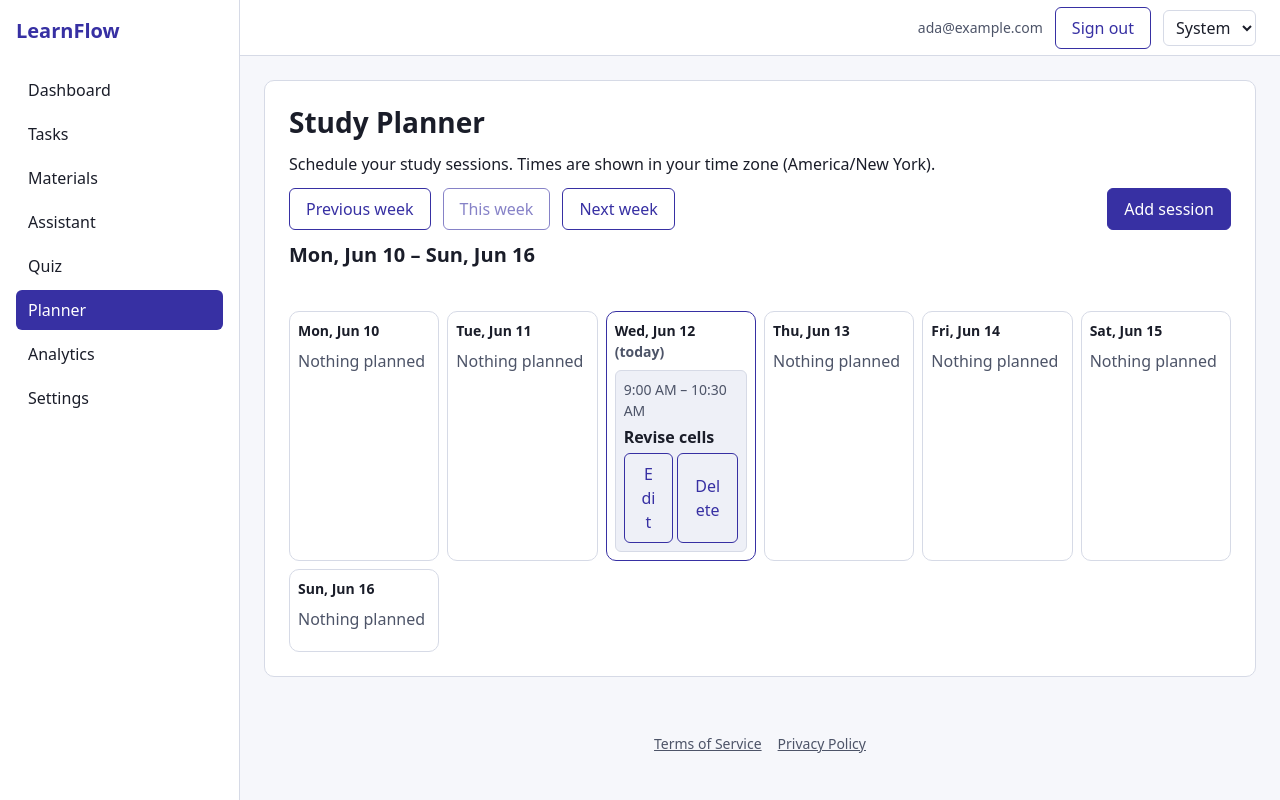
Test: planner: editing and deleting › opens a session in the user's zone and saves the new times
Expected: the heading "Study Planner" is shown, [289,103,485,141]
Click the button with aria-label "Edit: Revise cells" at coordinates (649, 498), box [624,453,673,543]
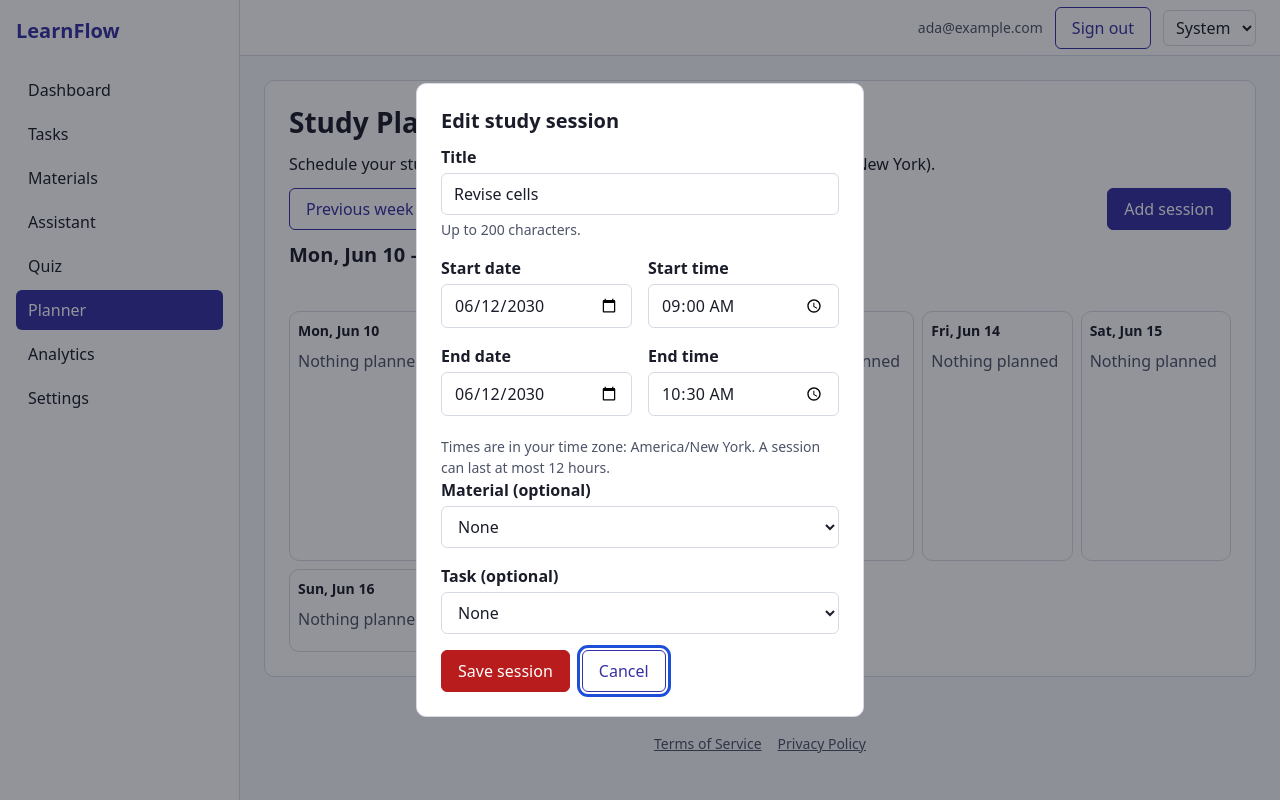
Expected: the field labelled "Title" holds "Revise cells", [441,173,839,215]
Expected: the date field labelled "Start date" holds "2030-06-12", [441,284,632,328]
Expected: the time field labelled "Start time" holds "09:00", [648,284,839,328]
Replace the text in the time field labelled "End time" with "11:00" at coordinates (744, 394), box [648,372,839,416]
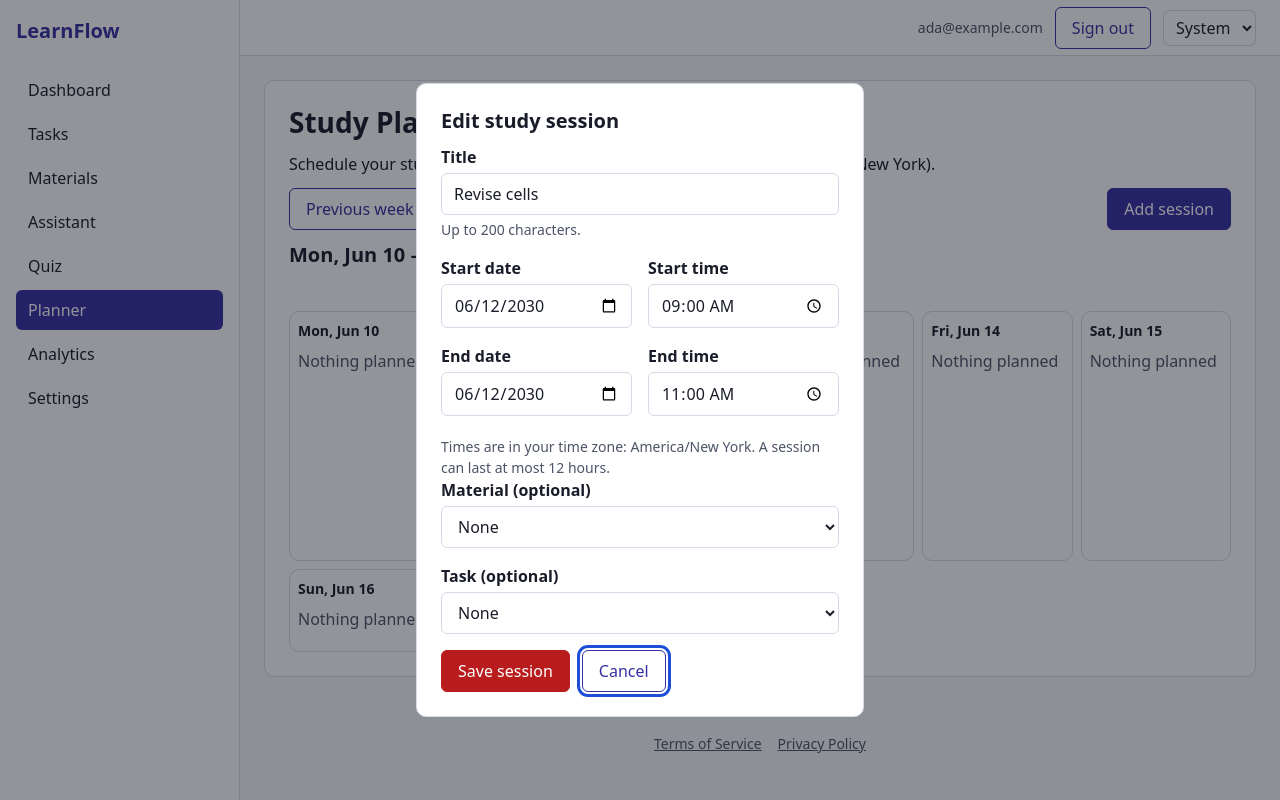
Click the button "Save session" at coordinates (505, 671), box [441,650,570,692]
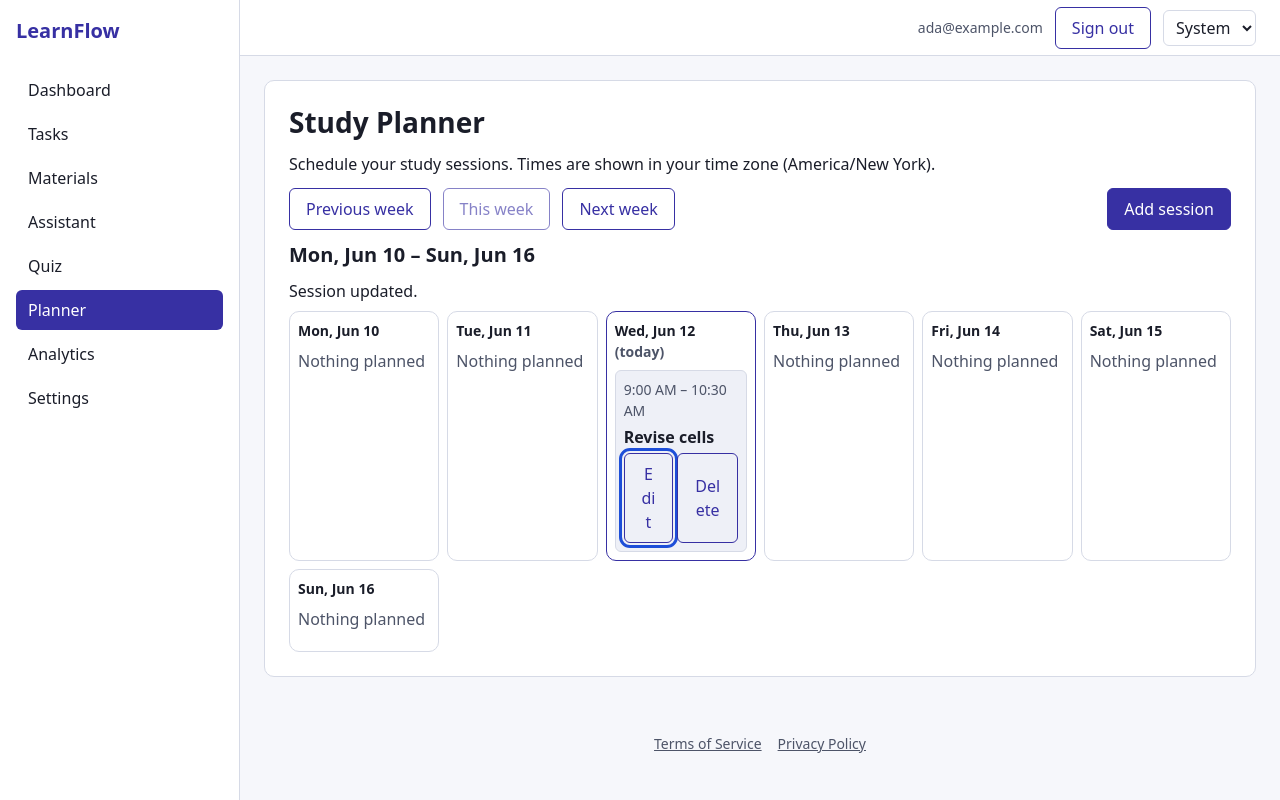
Expected: the text "Session updated." is shown, [289,280,418,302]
